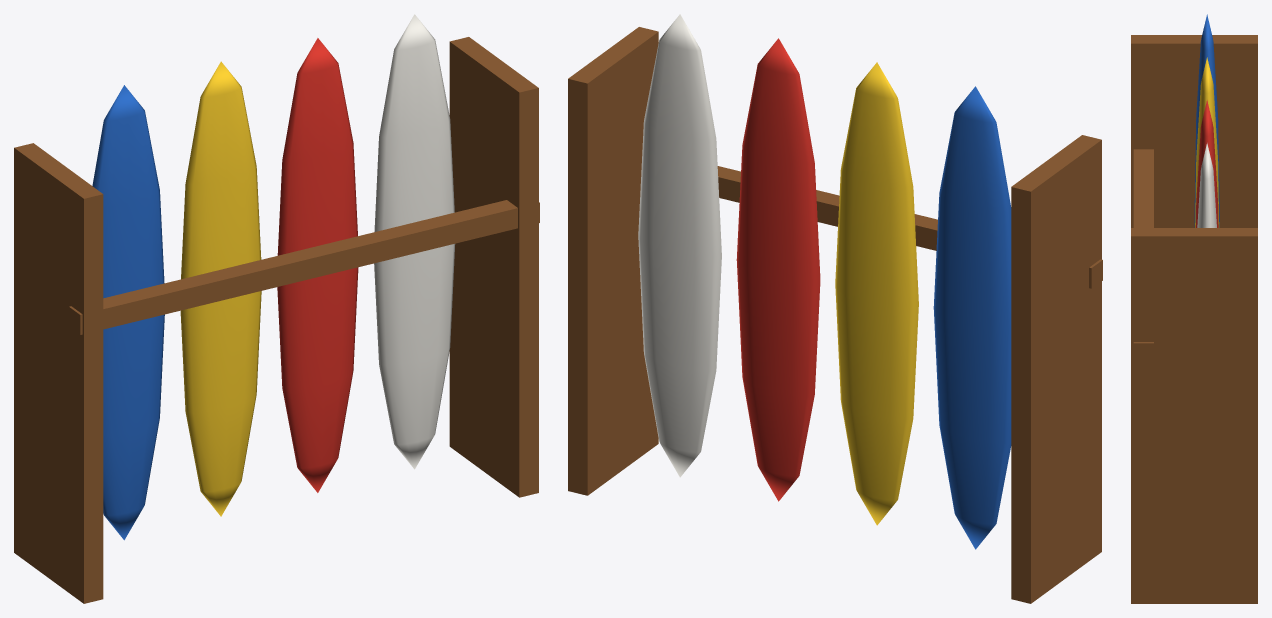
File: surf_rack.glb
The picture shows the model from 3 angles, left to right: view 1: azimuth 30°, elevation 25°; view 2: azimuth 150°, elevation 25°; view 3: azimuth 270°, elevation 25°; orthographic projection. The views are drawn at different scales.
Visible parts, largest first — view 1: Cube; view 2: Cube; view 3: Cube.
Part boxes in pixels (x1,y1,x2,y2): Cube: (14,14,539,603); Cube: (568,14,1102,603); Cube: (1131,14,1257,603).
Size of the model in its own units: 1.9 by 1.85 by 0.5.
